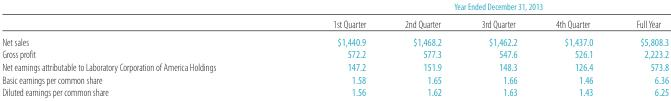table: (1, 1, 668, 97)
table column: (1, 1, 273, 97), (273, 1, 384, 97), (535, 1, 614, 97), (384, 1, 460, 97), (460, 1, 535, 97), (614, 1, 668, 97)
table column header: (1, 1, 668, 32)
table row: (1, 14, 668, 32), (1, 32, 668, 47), (1, 1, 668, 14), (1, 47, 668, 60), (1, 72, 668, 85), (1, 60, 668, 72), (1, 85, 668, 97)
table spanning cell: (273, 1, 668, 14)
